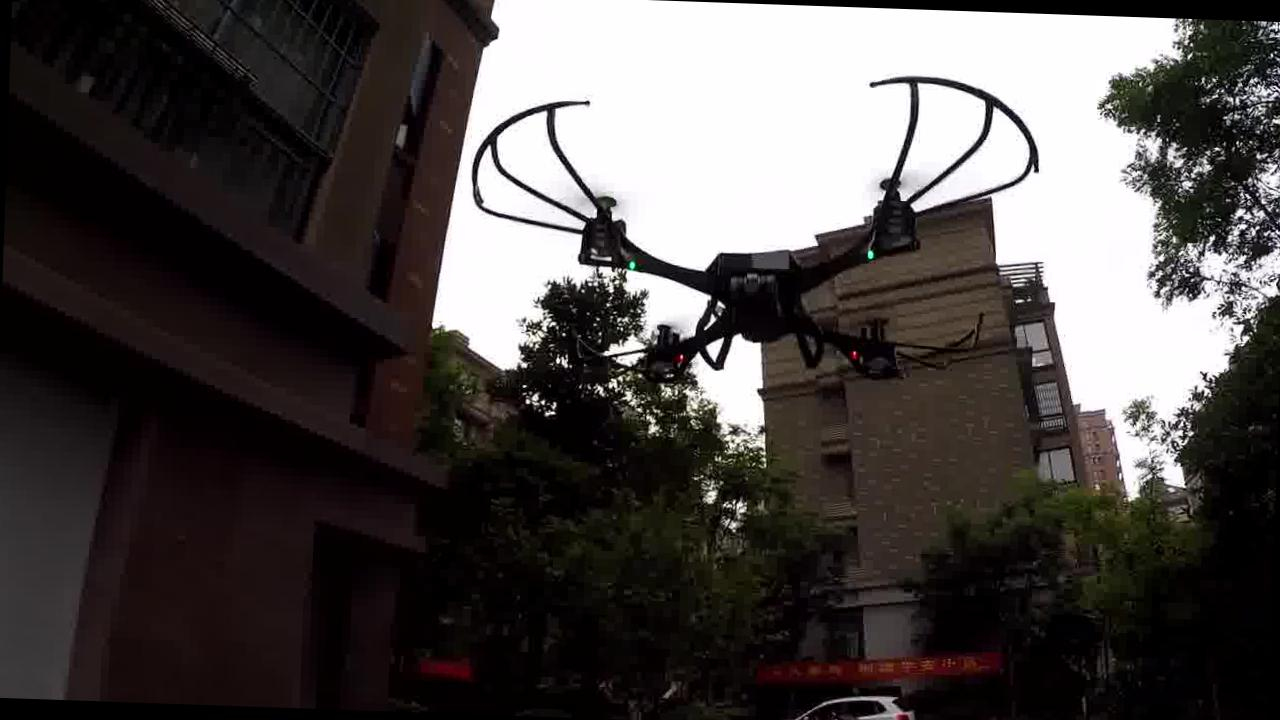drone: (443, 50, 1048, 459)
